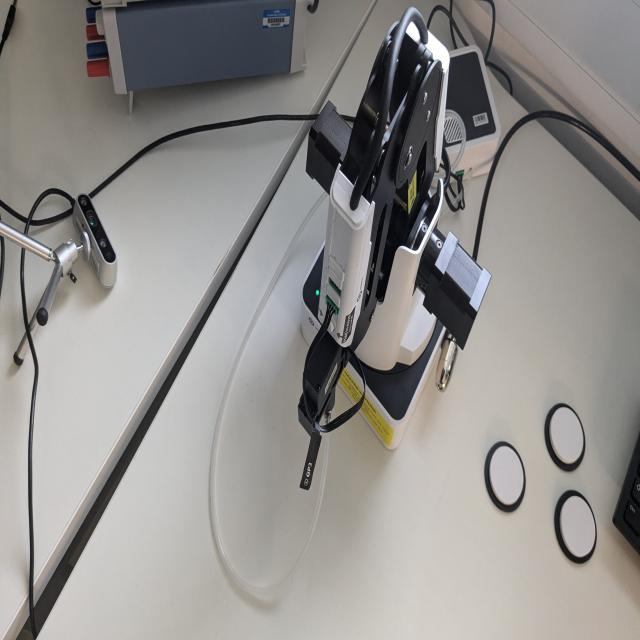Robot-end-effector-HF8z: (296, 326, 344, 441)
